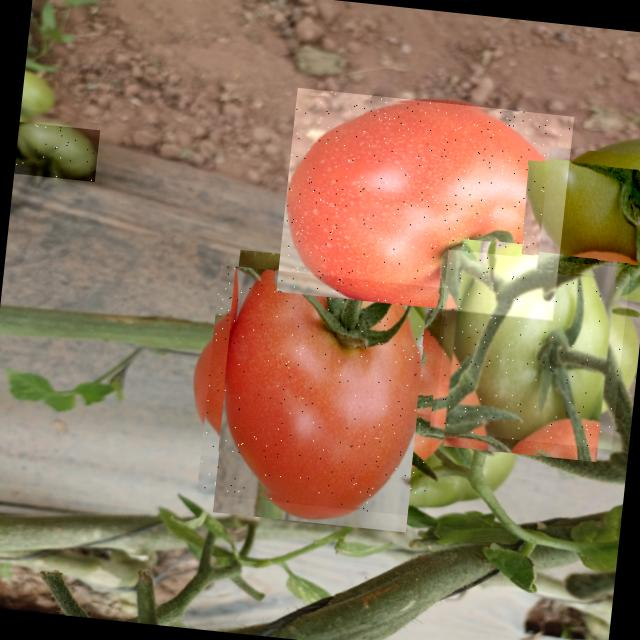Ripe Tomato: (276, 87, 574, 320), (196, 264, 448, 517)
Unripe Tomato: (429, 249, 630, 449), (536, 146, 640, 283), (14, 121, 100, 181)
